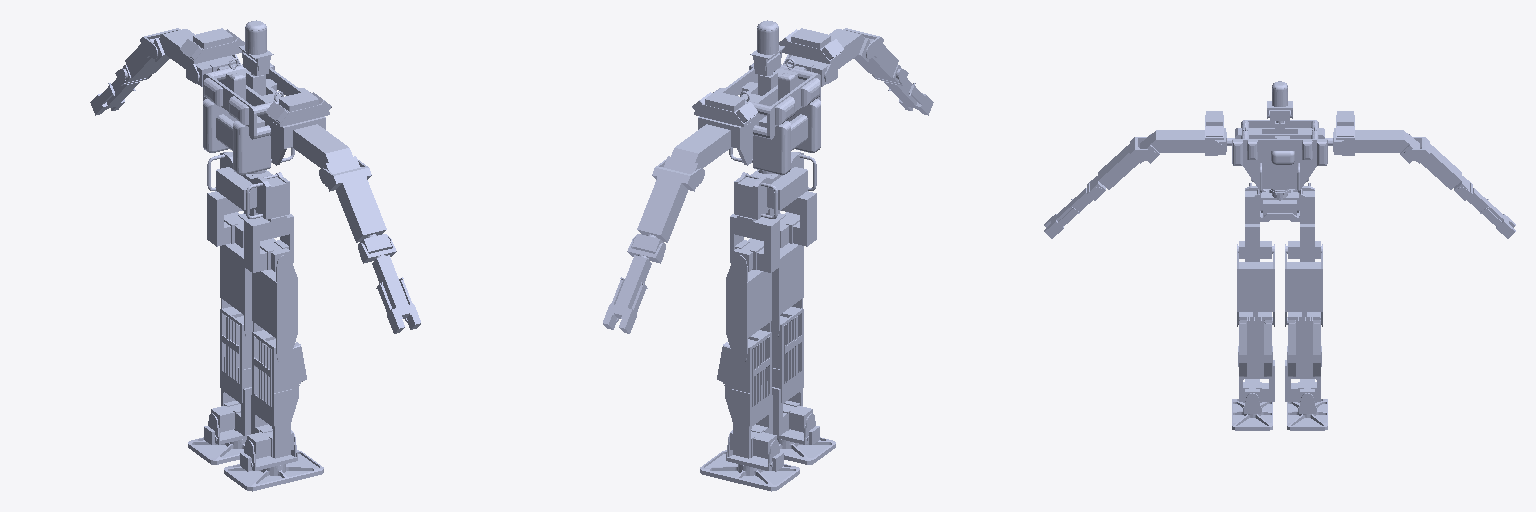
--- What the picture shows (computed from the rendered views, not written in the file) ---
Views: 3 orthographic renders of the robot side by side, from view 1: azimuth 30°, elevation 25°; view 2: azimuth 150°, elevation 25°; view 3: azimuth 270°, elevation 25°.
Robot: thormang_biped — 36 links, 35 joints (31 revolute, 4 prismatic); root link Pelvis; default pose: every joint at zero.
Links seen in each view (by area): view 1: Torso, R_Shin, R_Thigh, L_Shin, Pelvis, R_Foot, R_Forearm, R_ShoulderRoll, L_Thigh, R_Brachium, R_HipYaw, L_ShoulderRoll (+9 smaller); view 2: Torso, L_Shin, L_Thigh, R_Shin, Pelvis, L_Foot, L_Forearm, L_ShoulderRoll, R_Thigh, L_Brachium, L_HipYaw, R_ShoulderRoll (+9 smaller); view 3: Torso, L_Shin, R_Shin, L_Thigh, R_Thigh, Pelvis, L_Brachium, R_Brachium, L_Foot, R_Foot, L_Forearm, R_Forearm (+5 smaller).
Boxes of the visible links, <box> form: Torso: <box>203,58,310,174</box>; R_Shin: <box>251,330,306,458</box>; R_Thigh: <box>252,255,297,362</box>; L_Shin: <box>220,307,251,435</box>; Pelvis: <box>207,152,289,219</box>; R_Foot: <box>224,430,323,491</box>; R_Forearm: <box>319,160,386,242</box>; R_ShoulderRoll: <box>266,91,331,148</box>; L_Thigh: <box>220,243,252,339</box>; R_Brachium: <box>293,124,360,186</box>; R_HipYaw: <box>244,214,293,272</box>; L_ShoulderRoll: <box>180,28,244,83</box>; Torso: <box>713,58,820,174</box>; L_Shin: <box>717,330,772,458</box>; L_Thigh: <box>726,255,771,362</box>; R_Shin: <box>772,307,803,435</box>; Pelvis: <box>734,152,816,219</box>; L_Foot: <box>700,430,799,491</box>; L_Forearm: <box>637,160,704,242</box>; L_ShoulderRoll: <box>692,91,757,148</box>; R_Thigh: <box>771,243,803,339</box>; L_Brachium: <box>663,124,730,186</box>; L_HipYaw: <box>730,214,779,272</box>; R_ShoulderRoll: <box>779,28,843,83</box>; Torso: <box>1232,120,1327,197</box>; L_Shin: <box>1285,312,1321,401</box>; R_Shin: <box>1238,312,1274,401</box>; L_Thigh: <box>1285,244,1322,326</box>; R_Thigh: <box>1237,244,1274,326</box>; Pelvis: <box>1245,183,1314,221</box>; L_Brachium: <box>1355,130,1419,163</box>; R_Brachium: <box>1140,130,1204,163</box>; L_Foot: <box>1287,393,1327,430</box>; R_Foot: <box>1232,393,1272,430</box>; L_Forearm: <box>1403,137,1461,189</box>; R_Forearm: <box>1098,137,1156,189</box>.
Size in the robot's own frame: 0.26 by 1.8 by 1.4 metres.
36 mesh visuals loaded from 36 distinct referenced files (36 binary STL).

The robot description file, URDF, robot "thormang_biped":
<robot
  name="thormang_biped">
  <link
    name="Pelvis">
    <inertial>
      <origin
        xyz="-0.0207455406635074 6.47853827404495E-05 0.00380982131902759"
        rpy="0 0 0" />
      <mass
        value="2.19306457334278" />
      <inertia
        ixx="0.0153339760496231"
        ixy="2.94749587502496E-06"
        ixz="-0.000209196844286706"
        iyy="0.00398144349279579"
        iyz="-5.41293804035755E-07"
        izz="0.0162134477869545" />
    </inertial>
    <visual>
      <origin
        xyz="0 0 0"
        rpy="0 0 0" />
      <geometry>
        <mesh
          filename="package://thormang_biped/meshes/Pelvis.STL" />
      </geometry>
      <material
        name="">
        <color
          rgba="0.792156862745098 0.819607843137255 0.933333333333333 1" />
      </material>
    </visual>
    <collision>
      <origin
        xyz="0 0 0"
        rpy="0 0 0" />
      <geometry>
        <mesh
          filename="package://thormang_biped/meshes/Pelvis.STL" />
      </geometry>
    </collision>
  </link>
  <link
    name="Waist">
    <inertial>
      <origin
        xyz="3.46944695195361E-18 2.37301874171323E-17 0.0382726623568151"
        rpy="0 0 0" />
      <mass
        value="0.105008981553768" />
      <inertia
        ixx="0.00028923325259777"
        ixy="-8.85936872449097E-21"
        ixz="1.70143032864586E-20"
        iyy="5.76459310010768E-05"
        iyz="5.42136269993996E-20"
        izz="0.000281002197190509" />
    </inertial>
    <visual>
      <origin
        xyz="0 0 0"
        rpy="0 0 0" />
      <geometry>
        <mesh
          filename="package://thormang_biped/meshes/Waist.STL" />
      </geometry>
      <material
        name="">
        <color
          rgba="0.792156862745098 0.819607843137255 0.933333333333333 1" />
      </material>
    </visual>
    <collision>
      <origin
        xyz="0 0 0"
        rpy="0 0 0" />
      <geometry>
        <mesh
          filename="package://thormang_biped/meshes/Waist.STL" />
      </geometry>
    </collision>
  </link>
  <joint
    name="WaistPitch"
    type="revolute">
    <origin
      xyz="0 0 0"
      rpy="0 0 0" />
    <parent
      link="Pelvis" />
    <child
      link="Waist" />
    <axis
      xyz="0 1 0" />
    <limit
      lower="-3.14159"
      upper="3.14159"
      effort="0"
      velocity="0" />
  </joint>
  <link
    name="Torso">
    <inertial>
      <origin
        xyz="-0.0168979700897844 0.000140576613513264 0.22966016396624"
        rpy="0 0 0" />
      <mass
        value="5.57174840569226" />
      <inertia
        ixx="0.0769002816264981"
        ixy="5.26727349633804E-05"
        ixz="0.00517017691313698"
        iyy="0.0480759423374482"
        iyz="5.27826324523314E-05"
        izz="0.0687309509996623" />
    </inertial>
    <visual>
      <origin
        xyz="0 0 0"
        rpy="0 0 0" />
      <geometry>
        <mesh
          filename="package://thormang_biped/meshes/Torso.STL" />
      </geometry>
      <material
        name="">
        <color
          rgba="0.792156862745098 0.819607843137255 0.933333333333333 1" />
      </material>
    </visual>
    <collision>
      <origin
        xyz="0 0 0"
        rpy="0 0 0" />
      <geometry>
        <mesh
          filename="package://thormang_biped/meshes/Torso.STL" />
      </geometry>
    </collision>
  </link>
  <joint
    name="WaistYaw"
    type="revolute">
    <origin
      xyz="0 0 0"
      rpy="0 0 0" />
    <parent
      link="Waist" />
    <child
      link="Torso" />
    <axis
      xyz="0 0 1" />
    <limit
      lower="-3.14159"
      upper="3.14159"
      effort="0"
      velocity="0" />
  </joint>
  <link
    name="L_ShoulderPitch">
    <inertial>
      <origin
        xyz="3.46944695195361E-18 -0.00342712853152077 5.55111512312578E-17"
        rpy="0 0 0" />
      <mass
        value="0.416028900494078" />
      <inertia
        ixx="0.000238893106729317"
        ixy="1.85898592168744E-18"
        ixz="1.53965504651903E-19"
        iyy="0.000629224025339215"
        iyz="1.24549355981854E-19"
        izz="0.000668967703762948" />
    </inertial>
    <visual>
      <origin
        xyz="0 0 0"
        rpy="0 0 0" />
      <geometry>
        <mesh
          filename="package://thormang_biped/meshes/L_ShoulderPitch.STL" />
      </geometry>
      <material
        name="">
        <color
          rgba="0.792156862745098 0.819607843137255 0.933333333333333 1" />
      </material>
    </visual>
    <collision>
      <origin
        xyz="0 0 0"
        rpy="0 0 0" />
      <geometry>
        <mesh
          filename="package://thormang_biped/meshes/L_ShoulderPitch.STL" />
      </geometry>
    </collision>
  </link>
  <joint
    name="L_ShoulderPitch"
    type="revolute">
    <origin
      xyz="0 0.234 0.276"
      rpy="0 0 0" />
    <parent
      link="Torso" />
    <child
      link="L_ShoulderPitch" />
    <axis
      xyz="0 1 0" />
 <limit
      lower="-3.14159"
      upper="3.14159"
      effort="0"
      velocity="0" />
  </joint>
  <link
    name="L_ShoulderRoll">
    <inertial>
      <origin
        xyz="1.43982048506075E-15 0.0632257039890232 -0.019398477881721"
        rpy="0 0 0" />
      <mass
        value="0.74323252855722" />
      <inertia
        ixx="0.000871617137653335"
        ixy="1.42765372431216E-19"
        ixz="-1.05384119479055E-18"
        iyy="0.00197133227800301"
        iyz="0.000122042446311375"
        izz="0.00222116483779518" />
    </inertial>
    <visual>
      <origin
        xyz="0 0 0"
        rpy="0 0 0" />
      <geometry>
        <mesh
          filename="package://thormang_biped/meshes/L_ShoulderRoll.STL" />
      </geometry>
      <material
        name="">
        <color
          rgba="0.792156862745098 0.819607843137255 0.933333333333333 1" />
      </material>
    </visual>
    <collision>
      <origin
        xyz="0 0 0"
        rpy="0 0 0" />
      <geometry>
        <mesh
          filename="package://thormang_biped/meshes/L_ShoulderRoll.STL" />
      </geometry>
    </collision>
  </link>
  <joint
    name="L_ShoulderRoll"
    type="revolute">
    <origin
      xyz="0 0 0"
      rpy="1.57 0 0" />
    <parent
      link="L_ShoulderPitch" />
    <child
      link="L_ShoulderRoll" />
    <axis
      xyz="1 0 0" />
 <limit
      lower="-3.14159"
      upper="3.14159"
      effort="0"
      velocity="0" />
  </joint>
  <link
    name="L_Brachium">
    <inertial>
      <origin
        xyz="1.09287578986539E-15 -0.00707253917999612 -0.177442810656575"
        rpy="0 0 0" />
      <mass
        value="1.22027557987287" />
      <inertia
        ixx="0.00632162045138092"
        ixy="2.30341245066915E-18"
        ixz="3.49898774029815E-18"
        iyy="0.0065801910115911"
        iyz="0.000731955168547619"
        izz="0.00132711461746966" />
    </inertial>
    <visual>
      <origin
        xyz="0 0 0"
        rpy="0 0 0" />
      <geometry>
        <mesh
          filename="package://thormang_biped/meshes/L_Brachium.STL" />
      </geometry>
      <material
        name="">
        <color
          rgba="0.792156862745098 0.819607843137255 0.933333333333333 1" />
      </material>
    </visual>
    <collision>
      <origin
        xyz="0 0 0"
        rpy="0 0 0" />
      <geometry>
        <mesh
          filename="package://thormang_biped/meshes/L_Brachium.STL" />
      </geometry>
    </collision>
  </link>
  <joint
    name="L_ShoulderYaw"
    type="revolute">
    <origin
      xyz="0 0 0"
      rpy="0 0 0" />
    <parent
      link="L_ShoulderRoll" />
    <child
      link="L_Brachium" />
    <axis
      xyz="0 0 -1" />
 <limit
      lower="-3.14159"
      upper="3.14159"
      effort="0"
      velocity="0" />
  </joint>
  <link
    name="L_Forearm">
    <inertial>
      <origin
        xyz="6.66133814775094E-16 0.0301802557882228 -0.125371968681661"
        rpy="0 0 0" />
      <mass
        value="0.894740704969577" />
      <inertia
        ixx="0.00316761849786979"
        ixy="8.99015611908446E-18"
        ixz="-4.28374668871665E-17"
        iyy="0.00351862682136402"
        iyz="4.38013509654595E-06"
        izz="0.000878865795651263" />
    </inertial>
    <visual>
      <origin
        xyz="0 0 0"
        rpy="0 0 0" />
      <geometry>
        <mesh
          filename="package://thormang_biped/meshes/L_Forearm.STL" />
      </geometry>
      <material
        name="">
        <color
          rgba="0.792156862745098 0.819607843137255 0.933333333333333 1" />
      </material>
    </visual>
    <collision>
      <origin
        xyz="0 0 0"
        rpy="0 0 0" />
      <geometry>
        <mesh
          filename="package://thormang_biped/meshes/L_Forearm.STL" />
      </geometry>
    </collision>
  </link>
  <joint
    name="L_ElbowRoll"
    type="revolute">
    <origin
      xyz="0 -0.03 -0.261"
      rpy="-0.785 0 0" />
    <parent
      link="L_Brachium" />
    <child
      link="L_Forearm" />
    <axis
      xyz="1 0 0" />
 <limit
      lower="-3.14159"
      upper="3.14159"
      effort="0"
      velocity="0" />
  </joint>
  <link
    name="L_WristRoll">
    <inertial>
      <origin
        xyz="1.1518563880486E-15 -1.11022302462516E-16 0.00067715994469672"
        rpy="0 0 0" />
      <mass
        value="0.150315450247039" />
      <inertia
        ixx="4.40315708714133E-05"
        ixy="-6.01255559899408E-21"
        ixz="5.93966197532904E-21"
        iyy="0.000108075785878161"
        iyz="-4.6910701991474E-22"
        izz="0.000105927651159539" />
    </inertial>
    <visual>
      <origin
        xyz="0 0 0"
        rpy="0 0 0" />
      <geometry>
        <mesh
          filename="package://thormang_biped/meshes/L_WristRoll.STL" />
      </geometry>
      <material
        name="">
        <color
          rgba="0.792156862745098 0.819607843137255 0.933333333333333 1" />
      </material>
    </visual>
    <collision>
      <origin
        xyz="0 0 0"
        rpy="0 0 0" />
      <geometry>
        <mesh
          filename="package://thormang_biped/meshes/L_WristRoll.STL" />
      </geometry>
    </collision>
  </link>
  <joint
    name="L_WristYaw"
    type="revolute">
    <origin
      xyz="0 0.03 -0.252"
      rpy="0 0 0" />
    <parent
      link="L_Forearm" />
    <child
      link="L_WristRoll" />
    <axis
      xyz="0 0 -1" />
 <limit
      lower="-3.14159"
      upper="3.14159"
      effort="0"
      velocity="0" />
  </joint>
  <link
    name="L_WristPitch">
    <inertial>
      <origin
        xyz="5.48172618408671E-16 4.9960036108132E-16 -0.0279403454542276"
        rpy="0 0 0" />
      <mass
        value="0.0596026537824495" />
      <inertia
        ixx="1.59829512203542E-05"
        ixy="-1.31008815943191E-19"
        ixz="-7.63295657012053E-19"
        iyy="7.19116624785128E-05"
        iyz="4.27671696206679E-19"
        izz="7.33052713556691E-05" />
    </inertial>
    <visual>
      <origin
        xyz="0 0 0"
        rpy="0 0 0" />
      <geometry>
        <mesh
          filename="package://thormang_biped/meshes/L_WristPitch.STL" />
      </geometry>
      <material
        name="">
        <color
          rgba="0.792156862745098 0.819607843137255 0.933333333333333 1" />
      </material>
    </visual>
    <collision>
      <origin
        xyz="0 0 0"
        rpy="0 0 0" />
      <geometry>
        <mesh
          filename="package://thormang_biped/meshes/L_WristPitch.STL" />
      </geometry>
    </collision>
  </link>
  <joint
    name="L_WristRoll"
    type="revolute">
    <origin
      xyz="0 0 0"
      rpy="0 0 0" />
    <parent
      link="L_WristRoll" />
    <child
      link="L_WristPitch" />
    <axis
      xyz="1 0 0" />
 <limit
      lower="-3.14159"
      upper="3.14159"
      effort="0"
      velocity="0" />
  </joint>
  <link
    name="L_WristYaw">
    <inertial>
      <origin
        xyz="1.12410081243297E-15 -2.4980018054066E-16 -0.136382080206716"
        rpy="0 0 0" />
      <mass
        value="0.339829436067223" />
      <inertia
        ixx="0.00110530407214956"
        ixy="4.0800302623266E-21"
        ixz="2.20286100939062E-21"
        iyy="0.00110530686188384"
        iyz="1.00750091961227E-19"
        izz="9.91805437826409E-05" />
    </inertial>
    <visual>
      <origin
        xyz="0 0 0"
        rpy="0 0 0" />
      <geometry>
        <mesh
          filename="package://thormang_biped/meshes/L_WristYaw.STL" />
      </geometry>
      <material
        name="">
        <color
          rgba="0.792156862745098 0.819607843137255 0.933333333333333 1" />
      </material>
    </visual>
    <collision>
      <origin
        xyz="0 0 0"
        rpy="0 0 0" />
      <geometry>
        <mesh
          filename="package://thormang_biped/meshes/L_WristYaw.STL" />
      </geometry>
    </collision>
  </link>
  <joint
    name="L_HandYaw"
    type="revolute">
    <origin
      xyz="0 0 0"
      rpy="0 0 0" />
    <parent
      link="L_WristPitch" />
    <child
      link="L_WristYaw" />
    <axis
      xyz="0 0 1" />
 <limit
      lower="-3.14159"
      upper="3.14159"
      effort="0"
      velocity="0" />
  </joint>
  <link
    name="L_Gripper_1">
    <inertial>
      <origin
        xyz="0.0121411900875521 -2.77555756156289E-17 0.0193142445729918"
        rpy="0 0 0" />
      <mass
        value="0.0743348693421169" />
      <inertia
        ixx="0.000122351896140951"
        ixy="-6.41368630681924E-22"
        ixz="6.97589954062859E-06"
        iyy="0.000115752232168573"
        iyz="-1.08143688961258E-20"
        izz="1.20667033003481E-05" />
    </inertial>
    <visual>
      <origin
        xyz="0 0 0"
        rpy="0 0 0" />
      <geometry>
        <mesh
          filename="package://thormang_biped/meshes/L_Gripper_1.STL" />
      </geometry>
      <material
        name="">
        <color
          rgba="0.792156862745098 0.819607843137255 0.933333333333333 1" />
      </material>
    </visual>
    <collision>
      <origin
        xyz="0 0 0"
        rpy="0 0 0" />
      <geometry>
        <mesh
          filename="package://thormang_biped/meshes/L_Gripper_1.STL" />
      </geometry>
    </collision>
  </link>
  <joint
    name="L_Gripper_1"
    type="prismatic">
    <origin
      xyz="0.017 0 -0.2378"
      rpy="-5.55111512312578E-16 0 0" />
    <parent
      link="L_WristYaw" />
    <child
      link="L_Gripper_1" />
    <axis
      xyz="1 0 1" />
 <limit
      lower="-0.04"
      upper="0"
      effort="0"
      velocity="0" />
  </joint>
  <link
    name="L_Gripper_2">
    <inertial>
      <origin
        xyz="-0.012141190087552 -5.55111512312578E-17 0.0193142445729917"
        rpy="0 0 0" />
      <mass
        value="0.0743348693421169" />
      <inertia
        ixx="0.000122351896140951"
        ixy="-1.63687340802703E-21"
        ixz="-6.97589954062858E-06"
        iyy="0.000115752232168573"
        iyz="1.18536861579849E-20"
        izz="1.20667033003481E-05" />
    </inertial>
    <visual>
      <origin
        xyz="0 0 0"
        rpy="0 0 0" />
      <geometry>
        <mesh
          filename="package://thormang_biped/meshes/L_Gripper_2.STL" />
      </geometry>
      <material
        name="">
        <color
          rgba="0.792156862745098 0.819607843137255 0.933333333333333 1" />
      </material>
    </visual>
    <collision>
      <origin
        xyz="0 0 0"
        rpy="0 0 0" />
      <geometry>
        <mesh
          filename="package://thormang_biped/meshes/L_Gripper_2.STL" />
      </geometry>
    </collision>
  </link>
  <joint
    name="L_Gripper_2"
    type="prismatic">
    <origin
      xyz="-0.017 0 -0.2378"
      rpy="0 0 0" />
    <parent
      link="L_WristYaw" />
    <child
      link="L_Gripper_2" />
    <axis
      xyz="-1 0 1" />
 <limit
      lower="-0.04"
      upper="0"
      effort="0"
      velocity="0" />
  <mimic joint="L_Gripper_1" multiplier="1" offset="0"/>
  </joint>
  <link
    name="R_ShoulderPitch">
    <inertial>
      <origin
        xyz="-1.66533453693773E-16 0.00342712853152929 1.77635683940025E-15"
        rpy="0 0 0" />
      <mass
        value="0.416028900494078" />
      <inertia
        ixx="0.000238893106729317"
        ixy="-1.70627694277485E-18"
        ixz="1.72789151585829E-19"
        iyy="0.000629224025339215"
        iyz="-2.51190062196878E-19"
        izz="0.000668967703762948" />
    </inertial>
    <visual>
      <origin
        xyz="0 0 0"
        rpy="0 0 0" />
      <geometry>
        <mesh
          filename="package://thormang_biped/meshes/R_ShoulderPitch.STL" />
      </geometry>
      <material
        name="">
        <color
          rgba="0.792156862745098 0.819607843137255 0.933333333333333 1" />
      </material>
    </visual>
    <collision>
      <origin
        xyz="0 0 0"
        rpy="0 0 0" />
      <geometry>
        <mesh
          filename="package://thormang_biped/meshes/R_ShoulderPitch.STL" />
      </geometry>
    </collision>
  </link>
  <joint
    name="R_ShoulderPitch"
    type="revolute">
    <origin
      xyz="0 -0.234 0.276"
      rpy="0 0 0" />
    <parent
      link="Torso" />
    <child
      link="R_ShoulderPitch" />
    <axis
      xyz="0 -1 0" />
 <limit
      lower="-3.14159"
      upper="3.14159"
      effort="0"
      velocity="0" />
  </joint>
  <link
    name="R_ShoulderRoll">
    <inertial>
      <origin
        xyz="-1.73472347597681E-16 -0.0632257039890194 -0.0193984778817191"
        rpy="0 0 0" />
      <mass
        value="0.74323252855722" />
      <inertia
        ixx="0.000871617137653335"
        ixy="-4.29995576373334E-18"
        ixz="-1.39091718422936E-18"
        iyy="0.00197133227800301"
        iyz="-0.000122042446311376"
        izz="0.00222116483779518" />
    </inertial>
    <visual>
      <origin
        xyz="0 0 0"
        rpy="0 0 0" />
      <geometry>
        <mesh
          filename="package://thormang_biped/meshes/R_ShoulderRoll.STL" />
      </geometry>
      <material
        name="">
        <color
          rgba="0.792156862745098 0.819607843137255 0.933333333333333 1" />
      </material>
    </visual>
    <collision>
      <origin
        xyz="0 0 0"
        rpy="0 0 0" />
      <geometry>
        <mesh
          filename="package://thormang_biped/meshes/R_ShoulderRoll.STL" />
      </geometry>
    </collision>
  </link>
  <joint
    name="R_ShoulderRoll"
    type="revolute">
    <origin
      xyz="0 0 0"
      rpy="-1.57 0 0" />
    <parent
      link="R_ShoulderPitch" />
    <child
      link="R_ShoulderRoll" />
    <axis
      xyz="1 0 0" />
 <limit
      lower="-3.14159"
      upper="3.14159"
      effort="0"
      velocity="0" />
  </joint>
  <link
    name="R_Brachium">
    <inertial>
      <origin
        xyz="-2.56739074444567E-16 0.00707253917999937 -0.177442810656573"
        rpy="0 0 0" />
      <mass
        value="1.22027557987287" />
      <inertia
        ixx="0.00632162045138092"
        ixy="-3.08753877840026E-18"
        ixz="5.42576799484679E-19"
        iyy="0.0065801910115911"
        iyz="-0.0007319551685476"
        izz="0.00132711461746966" />
    </inertial>
    <visual>
      <origin
        xyz="0 0 0"
        rpy="0 0 0" />
      <geometry>
        <mesh
          filename="package://thormang_biped/meshes/R_Brachium.STL" />
      </geometry>
      <material
        name="">
        <color
          rgba="0.792156862745098 0.819607843137255 0.933333333333333 1" />
      </material>
    </visual>
    <collision>
      <origin
        xyz="0 0 0"
        rpy="0 0 0" />
      <geometry>
        <mesh
          filename="package://thormang_biped/meshes/R_Brachium.STL" />
      </geometry>
    </collision>
  </link>
  <joint
    name="R_ShoulderYaw"
    type="revolute">
    <origin
      xyz="0 0 0"
      rpy="0 0 0" />
    <parent
      link="R_ShoulderRoll" />
    <child
      link="R_Brachium" />
    <axis
      xyz="0 0 -1" />
 <limit
      lower="-3.14159"
      upper="3.14159"
      effort="0"
      velocity="0" />
  </joint>
  <link
    name="R_Forearm">
    <inertial>
      <origin
        xyz="-6.90419943438769E-16 -0.0301802557882202 -0.125371968681659"
        rpy="0 0 0" />
      <mass
        value="0.894740704969576" />
      <inertia
        ixx="0.00316761849786979"
        ixy="-1.01729322997928E-17"
        ixz="-4.3166385399175E-17"
        iyy="0.00351862682136402"
        iyz="-4.38013509653758E-06"
        izz="0.000878865795651262" />
    </inertial>
    <visual>
      <origin
        xyz="0 0 0"
        rpy="0 0 0" />
      <geometry>
        <mesh
          filename="package://thormang_biped/meshes/R_Forearm.STL" />
      </geometry>
      <material
        name="">
        <color
          rgba="0.792156862745098 0.819607843137255 0.933333333333333 1" />
      </material>
    </visual>
    <collision>
      <origin
        xyz="0 0 0"
        rpy="0 0 0" />
      <geometry>
        <mesh
          filename="package://thormang_biped/meshes/R_Forearm.STL" />
      </geometry>
    </collision>
  </link>
  <joint
    name="R_ElbowRoll"
    type="revolute">
    <origin
      xyz="0 0.03 -0.261"
      rpy="0.785 0 0" />
    <parent
      link="R_Brachium" />
    <child
      link="R_Forearm" />
    <axis
      xyz="1 0 0" />
 <limit
      lower="-3.14159"
      upper="3.14159"
      effort="0"
      velocity="0" />
  </joint>
  <link
    name="R_WristRoll">
    <inertial>
      <origin
        xyz="-2.08166817117217E-16 2.38697950294409E-15 0.000677159944698441"
        rpy="0 0 0" />
      <mass
        value="0.150315450247039" />
      <inertia
        ixx="4.40315708714133E-05"
        ixy="-2.25602046964142E-19"
        ixz="6.15069358178715E-21"
        iyy="0.000108075785878161"
        iyz="6.00519892877253E-21"
        izz="0.000105927651159539" />
    </inertial>
    <visual>
      <origin
        xyz="0 0 0"
        rpy="0 0 0" />
      <geometry>
        <mesh
          filename="package://thormang_biped/meshes/R_WristRoll.STL" />
      </geometry>
      <material
        name="">
        <color
          rgba="0.792156862745098 0.819607843137255 0.933333333333333 1" />
      </material>
    </visual>
    <collision>
      <origin
        xyz="0 0 0"
        rpy="0 0 0" />
      <geometry>
        <mesh
          filename="package://thormang_biped/meshes/R_WristRoll.STL" />
      </geometry>
    </collision>
  </link>
  <joint
    name="R_WristYaw"
    type="revolute">
    <origin
      xyz="0 -0.03 -0.252"
      rpy="0 0 0" />
    <parent
      link="R_Forearm" />
    <child
      link="R_WristRoll" />
    <axis
      xyz="0 0 -1" />
 <limit
      lower="-3.14159"
      upper="3.14159"
      effort="0"
      velocity="0" />
  </joint>
  <link
    name="R_WristPirch">
    <inertial>
      <origin
        xyz="-7.63278329429795E-16 1.69309011255336E-15 -0.0279403454542258"
        rpy="0 0 0" />
      <mass
        value="0.0596026537824494" />
      <inertia
        ixx="1.59829512203542E-05"
        ixy="-6.41322851625969E-20"
        ixz="-7.70255192278706E-19"
        iyy="7.19116624785125E-05"
        iyz="-4.30201523947514E-19"
        izz="7.33052713556688E-05" />
    </inertial>
    <visual>
      <origin
        xyz="0 0 0"
        rpy="0 0 0" />
      <geometry>
        <mesh
          filename="package://thormang_biped/meshes/R_WristPirch.STL" />
      </geometry>
      <material
        name="">
        <color
          rgba="0.792156862745098 0.819607843137255 0.933333333333333 1" />
      </material>
    </visual>
    <collision>
      <origin
        xyz="0 0 0"
        rpy="0 0 0" />
      <geometry>
        <mesh
          filename="package://thormang_biped/meshes/R_WristPirch.STL" />
      </geometry>
    </collision>
  </link>
  <joint
    name="R_WristRoll"
    type="revolute">
    <origin
      xyz="0 0 0"
      rpy="0 0 0" />
    <parent
      link="R_WristRoll" />
    <child
      link="R_WristPirch" />
    <axis
      xyz="1 0 0" />
 <limit
      lower="-3.14159"
      upper="3.14159"
      effort="0"
      velocity="0" />
  </joint>
  <link
    name="R_WristYaw">
    <inertial>
      <origin
        xyz="-1.2490009027033E-16 1.97064586870965E-15 -0.136382080206715"
        rpy="0 0 0" />
      <mass
        value="0.339829436067223" />
      <inertia
        ixx="0.00110530407214957"
        ixy="-2.41405675922207E-21"
        ixz="-7.47564644287288E-19"
        iyy="0.00110530686188384"
        iyz="3.17180054928491E-18"
        izz="9.91805437826409E-05" />
    </inertial>
    <visual>
      <origin
        xyz="0 0 0"
        rpy="0 0 0" />
      <geometry>
        <mesh
          filename="package://thormang_biped/meshes/R_WristYaw.STL" />
      </geometry>
      <material
        name="">
        <color
          rgba="0.792156862745098 0.819607843137255 0.933333333333333 1" />
      </material>
    </visual>
    <collision>
      <origin
        xyz="0 0 0"
        rpy="0 0 0" />
      <geometry>
        <mesh
          filename="package://thormang_biped/meshes/R_WristYaw.STL" />
      </geometry>
    </collision>
  </link>
  <joint
    name="R_HandYaw"
    type="revolute">
    <origin
      xyz="0 0 0"
      rpy="0 0 0" />
    <parent
      link="R_WristPirch" />
    <child
      link="R_WristYaw" />
    <axis
      xyz="0 0 1" />
 <limit
      lower="-3.14159"
      upper="3.14159"
      effort="0"
      velocity="0" />
  </joint>
  <link
    name="R_Gripper_1">
    <inertial>
      <origin
        xyz="0.0121411900875521 5.55111512312578E-17 0.0193142445729919"
        rpy="0 0 0" />
      <mass
        value="0.0743348693421169" />
      <inertia
        ixx="0.00012235189614095"
        ixy="1.05553360562055E-21"
        ixz="6.97589954062858E-06"
        iyy="0.000115752232168572"
        iyz="1.03150393781901E-21"
        izz="1.20667033003482E-05" />
    </inertial>
    <visual>
      <origin
        xyz="0 0 0"
        rpy="0 0 0" />
      <geometry>
        <mesh
          filename="package://thormang_biped/meshes/R_Gripper_1.STL" />
      </geometry>
      <material
        name="">
        <color
          rgba="0.792156862745098 0.819607843137255 0.933333333333333 1" />
      </material>
    </visual>
    <collision>
      <origin
        xyz="0 0 0"
        rpy="0 0 0" />
      <geometry>
        <mesh
          filename="package://thormang_biped/meshes/R_Gripper_1.STL" />
      </geometry>
    </collision>
  </link>
  <joint
    name="R_Gripper_1"
    type="prismatic">
    <origin
      xyz="0.017 0 -0.2378"
      rpy="0 0 0" />
    <parent
      link="R_WristYaw" />
    <child
      link="R_Gripper_1" />
    <axis
      xyz="1 0 1" />
 <limit
      lower="-0.04"
      upper="0"
      effort="0"
      velocity="0" />
  </joint>
  <link
    name="R_Gripper_2">
    <inertial>
      <origin
        xyz="-0.0121411900875521 1.11022302462516E-16 0.0193142445729919"
        rpy="0 0 0" />
      <mass
        value="0.0743348693421169" />
      <inertia
        ixx="0.000122351896140951"
        ixy="-9.08130289243433E-22"
        ixz="-6.97589954062859E-06"
        iyy="0.000115752232168573"
        iyz="-1.71657017293003E-20"
        izz="1.20667033003481E-05" />
    </inertial>
    <visual>
      <origin
        xyz="0 0 0"
        rpy="0 0 0" />
      <geometry>
        <mesh
          filename="package://thormang_biped/meshes/R_Gripper_2.STL" />
      </geometry>
      <material
        name="">
        <color
          rgba="0.792156862745098 0.819607843137255 0.933333333333333 1" />
      </material>
    </visual>
    <collision>
      <origin
        xyz="0 0 0"
        rpy="0 0 0" />
      <geometry>
        <mesh
          filename="package://thormang_biped/meshes/R_Gripper_2.STL" />
      </geometry>
    </collision>
  </link>
  <joint
    name="R_Gripper_2"
    type="prismatic">
    <origin
      xyz="-0.017 0 -0.2378"
      rpy="0 0 0" />
    <parent
      link="R_WristYaw" />
    <child
      link="R_Gripper_2" />
    <axis
      xyz="-1 0 1" />
  <limit
      lower="-3.14159"
      upper="3.14159"
      effort="0"
      velocity="0" />
  <mimic joint="R_Gripper_1" multiplier="1" offset="0"/>
  </joint>
  <link
    name="HeadYaw">
    <inertial>
      <origin
        xyz="-1.38777878078145E-17 -5.35104110956884E-16 -0.00067715994469647"
        rpy="0 0 0" />
      <mass
        value="0.150315450247039" />
      <inertia
        ixx="0.000108075785878161"
        ixy="-2.27307476693817E-20"
        ixz="2.46953871238486E-21"
        iyy="4.40315708714134E-05"
        iyz="5.39361979487452E-21"
        izz="0.00010592765115954" />
    </inertial>
    <visual>
      <origin
        xyz="0 0 0"
        rpy="0 0 0" />
      <geometry>
        <mesh
          filename="package://thormang_biped/meshes/HeadYaw.STL" />
      </geometry>
      <material
        name="">
        <color
          rgba="0.792156862745098 0.819607843137255 0.933333333333333 1" />
      </material>
    </visual>
    <collision>
      <origin
        xyz="0 0 0"
        rpy="0 0 0" />
      <geometry>
        <mesh
          filename="package://thormang_biped/meshes/HeadYaw.STL" />
      </geometry>
    </collision>
  </link>
  <joint
    name="HeadYaw"
    type="revolute">
    <origin
      xyz="0.00025 0 0.393"
      rpy="0 0 0" />
    <parent
      link="Torso" />
    <child
      link="HeadYaw" />
    <axis
      xyz="0 0 1" />
 <limit
      lower="-3.14159"
      upper="3.14159"
      effort="0"
      velocity="0" />
  </joint>
  <link
    name="HeadPitch">
    <inertial>
      <origin
        xyz="-1.52655665885959E-16 -3.85624632820465E-16 0.071641467671459"
        rpy="0 0 0" />
      <mass
        value="0.337544108804753" />
      <inertia
        ixx="0.000475512791439341"
        ixy="-1.20085338855777E-19"
        ixz="2.09834249485506E-18"
        iyy="0.000411590544181183"
        iyz="-2.19404182596517E-18"
        izz="0.000216341594056485" />
    </inertial>
    <visual>
      <origin
        xyz="0 0 0"
        rpy="0 0 0" />
      <geometry>
        <mesh
          filename="package://thormang_biped/meshes/HeadPitch.STL" />
      </geometry>
      <material
        name="">
        <color
          rgba="0.792156862745098 0.819607843137255 0.933333333333333 1" />
      </material>
    </visual>
    <collision>
      <origin
        xyz="0 0 0"
        rpy="0 0 0" />
      <geometry>
        <mesh
          filename="package://thormang_biped/meshes/HeadPitch.STL" />
      </geometry>
    </collision>
  </link>
  <joint
    name="HeadPitch"
    type="revolute">
    <origin
      xyz="0 0 0"
      rpy="0 0 0" />
    <parent
      link="HeadYaw" />
    <child
      link="HeadPitch" />
    <axis
      xyz="0 1 0" />
 <limit
      lower="-3.14159"
      upper="3.14159"
      effort="0"
      velocity="0" />
  </joint>
  <link
    name="ChestLidar">
    <inertial>
      <origin
        xyz="-1.38777878078145E-17 0.0116948039792169 1.47664693310734E-05"
        rpy="0 0 0" />
      <mass
        value="0.282959869119411" />
      <inertia
        ixx="0.000239924579150412"
        ixy="7.44861410120348E-21"
        ixz="1.17015423832789E-20"
        iyy="0.000149433938356934"
        iyz="-4.88646126541286E-08"
        izz="0.000230200431484816" />
    </inertial>
    <visual>
      <origin
        xyz="0 0 0"
        rpy="0 0 0" />
      <geometry>
        <mesh
          filename="package://thormang_biped/meshes/ChestLidar.STL" />
      </geometry>
      <material
        name="">
        <color
          rgba="0.792156862745098 0.819607843137255 0.933333333333333 1" />
      </material>
    </visual>
    <collision>
      <origin
        xyz="0 0 0"
        rpy="0 0 0" />
      <geometry>
        <mesh
          filename="package://thormang_biped/meshes/ChestLidar.STL" />
      </geometry>
    </collision>
  </link>
  <joint
    name="ChestLidar"
    type="revolute">
    <origin
      xyz="0.04975 0 0.23915"
      rpy="0 0 0" />
    <parent
      link="Torso" />
    <child
      link="ChestLidar" />
    <axis
      xyz="0 0 -1" />
 <limit
      lower="-3.14159"
      upper="3.14159"
      effort="0"
      velocity="0" />
  </joint>
  <link
    name="L_HipYaw">
    <inertial>
      <origin
        xyz="-0.0228902675343666 4.16333634234434E-17 0.065587302187414"
        rpy="0 0 0" />
      <mass
        value="0.72157709426411" />
      <inertia
        ixx="0.00167992979561845"
        ixy="-6.97560486576371E-19"
        ixz="0.000282432152427089"
        iyy="0.00298368009748716"
        iyz="-2.60113278275012E-19"
        izz="0.00166031884737342" />
    </inertial>
    <visual>
      <origin
        xyz="0 0 0"
        rpy="0 0 0" />
      <geometry>
        <mesh
          filename="package://thormang_biped/meshes/L_HipYaw.STL" />
      </geometry>
      <material
        name="">
        <color
          rgba="0.792156862745098 0.819607843137255 0.933333333333333 1" />
      </material>
    </visual>
    <collision>
      <origin
        xyz="0 0 0"
        rpy="0 0 0" />
      <geometry>
        <mesh
          filename="package://thormang_biped/meshes/L_HipYaw.STL" />
      </geometry>
    </collision>
  </link>
  <joint
    name="L_HipYaw"
    type="revolute">
    <origin
      xyz="0 0.105 -0.18"
      rpy="0 0 0" />
    <parent
      link="Pelvis" />
    <child
      link="L_HipYaw" />
    <axis
      xyz="0 0 -1" />
 <limit
      lower="-3.14159"
      upper="3.14159"
      effort="0"
      velocity="0" />
  </joint>
  <link
    name="L_HipRoll">
    <inertial>
      <origin
        xyz="1.49186218934005E-16 -0.0103148017844754 0"
        rpy="0 0 0" />
      <mass
        value="0.437311321751758" />
      <inertia
        ixx="0.00065956104526658"
        ixy="-1.16427869146066E-19"
        ixz="-1.20255085608181E-19"
        iyy="0.000259056705757512"
        iyz="1.38930726444506E-19"
        izz="0.000692208200527019" />
    </inertial>
    <visual>
      <origin
        xyz="0 0 0"
        rpy="0 0 0" />
      <geometry>
        <mesh
          filename="package://thormang_biped/meshes/L_HipRoll.STL" />
      </geometry>
      <material
        name="">
        <color
          rgba="0.792156862745098 0.819607843137255 0.933333333333333 1" />
      </material>
    </visual>
    <collision>
      <origin
        xyz="0 0 0"
        rpy="0 0 0" />
      <geometry>
        <mesh
          filename="package://thormang_biped/meshes/L_HipRoll.STL" />
      </geometry>
    </collision>
  </link>
  <joint
    name="L_HipRoll"
    type="revolute">
    <origin
      xyz="0 0 0"
      rpy="0 0 0" />
    <parent
      link="L_HipYaw" />
    <child
      link="L_HipRoll" />
    <axis
      xyz="1 0 0" />
 <limit
      lower="-3.14159"
      upper="3.14159"
      effort="0"
      velocity="0" />
  </joint>
  <link
    name="L_Thigh">
    <inertial>
      <origin
        xyz="0.0105118439759244 -0.012 -0.15"
        rpy="0 0 0" />
      <mass
        value="1.94959368227371" />
      <inertia
        ixx="0.0101895537834064"
        ixy="4.38786705235751E-19"
        ixz="-4.01268763067474E-18"
        iyy="0.00728041107930321"
        iyz="-1.00585162486448E-18"
        izz="0.00452526621081512" />
    </inertial>
    <visual>
      <origin
        xyz="0 0 0"
        rpy="0 0 0" />
      <geometry>
        <mesh
          filename="package://thormang_biped/meshes/L_Thigh.STL" />
      </geometry>
      <material
        name="">
        <color
          rgba="0.792156862745098 0.819607843137255 0.933333333333333 1" />
      </material>
    </visual>
    <collision>
      <origin
        xyz="0 0 0"
        rpy="0 0 0" />
      <geometry>
        <mesh
          filename="package://thormang_biped/meshes/L_Thigh.STL" />
      </geometry>
    </collision>
  </link>
  <joint
    name="L_HipPitch"
    type="revolute">
    <origin
      xyz="0 0 0"
      rpy="0 0 0" />
    <parent
      link="L_HipRoll" />
    <child
      link="L_Thigh" />
    <axis
      xyz="0 1 0" />
 <limit
      lower="-3.14159"
      upper="3.14159"
      effort="0"
      velocity="0" />
  </joint>
  <link
    name="L_Shin">
    <inertial>
      <origin
        xyz="0.00883415484125563 -0.0149274590341243 -0.120537445426911"
        rpy="0 0 0" />
      <mass
        value="2.6825235982642" />
      <inertia
        ixx="0.0259265488038337"
        ixy="6.97622449613815E-05"
        ixz="0.00103300020370769"
        iyy="0.0228497663941152"
        iyz="0.00115455762450985"
        izz="0.00636055026513296" />
    </inertial>
    <visual>
      <origin
        xyz="0 0 0"
        rpy="0 0 0" />
      <geometry>
        <mesh
          filename="package://thormang_biped/meshes/L_Shin.STL" />
      </geometry>
      <material
        name="">
        <color
          rgba="0.792156862745098 0.819607843137255 0.933333333333333 1" />
      </material>
    </visual>
    <collision>
      <origin
        xyz="0 0 0"
        rpy="0 0 0" />
      <geometry>
        <mesh
          filename="package://thormang_biped/meshes/L_Shin.STL" />
      </geometry>
    </collision>
  </link>
  <joint
    name="L_KneePitch"
    type="revolute">
    <origin
      xyz="0 0 -0.3"
      rpy="0 0 0" />
    <parent
      link="L_Thigh" />
    <child
      link="L_Shin" />
    <axis
      xyz="0 1 0" />
 <limit
      lower="-3.14159"
      upper="3.14159"
      effort="0"
      velocity="0" />
  </joint>
  <link
    name="L_AnkleRoll">
    <inertial>
      <origin
        xyz="-0.0103148017844745 4.85722573273506E-16 -4.44089209850063E-16"
        rpy="0 0 0" />
      <mass
        value="0.437311321751758" />
      <inertia
        ixx="0.000259056705757512"
        ixy="5.72280956461342E-21"
        ixz="3.65475772255778E-18"
        iyy="0.00065956104526658"
        iyz="-2.28785306866449E-20"
        izz="0.00069220820052702" />
    </inertial>
    <visual>
      <origin
        xyz="0 0 0"
        rpy="0 0 0" />
      <geometry>
        <mesh
          filename="package://thormang_biped/meshes/L_AnkleRoll.STL" />
      </geometry>
      <material
        name="">
        <color
          rgba="0.792156862745098 0.819607843137255 0.933333333333333 1" />
      </material>
    </visual>
    <collision>
      <origin
        xyz="0 0 0"
        rpy="0 0 0" />
      <geometry>
        <mesh
          filename="package://thormang_biped/meshes/L_AnkleRoll.STL" />
      </geometry>
    </collision>
  </link>
  <joint
    name="L_AnklePitch"
    type="revolute">
    <origin
      xyz="0 0 -0.3"
      rpy="0 0 0" />
    <parent
      link="L_Shin" />
    <child
      link="L_AnkleRoll" />
    <axis
      xyz="0 1 0" />
 <limit
      lower="-3.14159"
      upper="3.14159"
      effort="0"
      velocity="0" />
  </joint>
  <link
    name="L_Foot">
    <inertial>
      <origin
        xyz="-0.0061851838800501 5.2004747730372E-08 -0.0794940769535744"
        rpy="0 0 0" />
      <mass
        value="0.65915676187322" />
      <inertia
        ixx="0.00127562804191711"
        ixy="-6.05428625153341E-10"
        ixz="-0.000138880278119591"
        iyy="0.00310726088876845"
        iyz="1.82606232071821E-10"
        izz="0.00373686225576651" />
    </inertial>
    <visual>
      <origin
        xyz="0 0 0"
        rpy="0 0 0" />
      <geometry>
        <mesh
          filename="package://thormang_biped/meshes/L_Foot.STL" />
      </geometry>
      <material
        name="">
        <color
          rgba="0.792156862745098 0.819607843137255 0.933333333333333 1" />
      </material>
    </visual>
    <collision>
      <origin
        xyz="0 0 0"
        rpy="0 0 0" />
      <geometry>
        <mesh
          filename="package://thormang_biped/meshes/L_Foot.STL" />
      </geometry>
    </collision>
  </link>
  <joint
    name="L_AnkleRoll"
    type="revolute">
    <origin
      xyz="0 0 0"
      rpy="0 0 0" />
    <parent
      link="L_AnkleRoll" />
    <child
      link="L_Foot" />
    <axis
      xyz="1 0 0" />
 <limit
      lower="-3.14159"
      upper="3.14159"
      effort="0"
      velocity="0" />
  </joint>
  <link
    name="R_HipYaw">
    <inertial>
      <origin
        xyz="-0.0228902675343661 -2.77555756156289E-17 0.065587302187414"
        rpy="0 0 0" />
      <mass
        value="0.721577094264109" />
      <inertia
        ixx="0.00167992979561845"
        ixy="2.60946625942876E-19"
        ixz="0.000282432152427088"
        iyy="0.00298368009748715"
        iyz="2.2616458583073E-19"
        izz="0.00166031884737341" />
    </inertial>
    <visual>
      <origin
        xyz="0 0 0"
        rpy="0 0 0" />
      <geometry>
        <mesh
          filename="package://thormang_biped/meshes/R_HipYaw.STL" />
      </geometry>
      <material
        name="">
        <color
          rgba="0.792156862745098 0.819607843137255 0.933333333333333 1" />
      </material>
    </visual>
    <collision>
      <origin
        xyz="0 0 0"
        rpy="0 0 0" />
      <geometry>
        <mesh
          filename="package://thormang_biped/meshes/R_HipYaw.STL" />
      </geometry>
    </collision>
  </link>
  <joint
    name="R_HipYaw"
    type="revolute">
    <origin
      xyz="0 -0.105 -0.18"
      rpy="0 0 0" />
    <parent
      link="Pelvis" />
    <child
      link="R_HipYaw" />
    <axis
      xyz="0 0 -1" />
 <limit
      lower="-3.14159"
      upper="3.14159"
      effort="0"
      velocity="0" />
  </joint>
  <link
    name="R_HipRoll">
    <inertial>
      <origin
        xyz="1.70002900645727E-16 0.0103148017844754 5.55111512312578E-17"
        rpy="0 0 0" />
      <mass
        value="0.437311321751758" />
      <inertia
        ixx="0.00065956104526658"
        ixy="1.08472710698544E-19"
        ixz="-9.50826502122702E-20"
        iyy="0.000259056705757512"
        iyz="-1.51548489589848E-19"
        izz="0.00069220820052702" />
    </inertial>
    <visual>
      <origin
        xyz="0 0 0"
        rpy="0 0 0" />
      <geometry>
        <mesh
          filename="package://thormang_biped/meshes/R_HipRoll.STL" />
      </geometry>
      <material
        name="">
        <color
          rgba="0.792156862745098 0.819607843137255 0.933333333333333 1" />
      </material>
    </visual>
    <collision>
      <origin
        xyz="0 0 0"
        rpy="0 0 0" />
      <geometry>
        <mesh
          filename="package://thormang_biped/meshes/R_HipRoll.STL" />
      </geometry>
    </collision>
  </link>
  <joint
    name="R_HipRoll"
    type="revolute">
    <origin
      xyz="0 0 0"
      rpy="0 0 0" />
    <parent
      link="R_HipYaw" />
    <child
      link="R_HipRoll" />
    <axis
      xyz="1 0 0" />
 <limit
      lower="-3.14159"
      upper="3.14159"
      effort="0"
      velocity="0" />
  </joint>
  <link
    name="R_Thigh">
    <inertial>
      <origin
        xyz="0.0105118439759232 0.012 -0.15"
        rpy="0 0 0" />
      <mass
        value="1.94959368227371" />
      <inertia
        ixx="0.0101895537834064"
        ixy="3.42384353184078E-18"
        ixz="1.71133887550666E-17"
        iyy="0.00728041107930323"
        iyz="-1.05879118406788E-18"
        izz="0.00452526621081513" />
    </inertial>
    <visual>
      <origin
        xyz="0 0 0"
        rpy="0 0 0" />
      <geometry>
        <mesh
          filename="package://thormang_biped/meshes/R_Thigh.STL" />
      </geometry>
      <material
        name="">
        <color
          rgba="0.792156862745098 0.819607843137255 0.933333333333333 1" />
      </material>
    </visual>
    <collision>
      <origin
        xyz="0 0 0"
        rpy="0 0 0" />
      <geometry>
        <mesh
          filename="package://thormang_biped/meshes/R_Thigh.STL" />
      </geometry>
    </collision>
  </link>
  <joint
    name="R_HipPitch"
    type="revolute">
    <origin
      xyz="0 0 0"
      rpy="0 0 0" />
    <parent
      link="R_HipRoll" />
    <child
      link="R_Thigh" />
    <axis
      xyz="0 -1 0" />
 <limit
      lower="-3.14159"
      upper="3.14159"
      effort="0"
      velocity="0" />
  </joint>
  <link
    name="R_Shin">
    <inertial>
      <origin
        xyz="0.00890006797507049 0.0149266819138829 -0.12050212446888"
        rpy="0 0 0" />
      <mass
        value="2.67787367792702" />
      <inertia
        ixx="0.0259194029068191"
        ixy="-6.96831136603028E-05"
        ixz="0.00102940360022767"
        iyy="0.0228402528244798"
        iyz="-0.00115451522031508"
        izz="0.00634949217950655" />
    </inertial>
    <visual>
      <origin
        xyz="0 0 0"
        rpy="0 0 0" />
      <geometry>
        <mesh
          filename="package://thormang_biped/meshes/R_Shin.STL" />
      </geometry>
      <material
        name="">
        <color
          rgba="0.792156862745098 0.819607843137255 0.933333333333333 1" />
      </material>
    </visual>
    <collision>
      <origin
        xyz="0 0 0"
        rpy="0 0 0" />
      <geometry>
        <mesh
          filename="package://thormang_biped/meshes/R_Shin.STL" />
      </geometry>
    </collision>
  </link>
  <joint
    name="R_KneePitch"
    type="revolute">
    <origin
      xyz="0 0 -0.3"
      rpy="0 0 0" />
    <parent
      link="R_Thigh" />
    <child
      link="R_Shin" />
    <axis
      xyz="0 -1 0" />
 <limit
      lower="-3.14159"
      upper="3.14159"
      effort="0"
      velocity="0" />
  </joint>
  <link
    name="R_AnkleRoll">
    <inertial>
      <origin
        xyz="-0.0103148017844745 -5.55111512312578E-16 -5.55111512312578E-16"
        rpy="0 0 0" />
      <mass
        value="0.437311321751758" />
      <inertia
        ixx="0.000259056705757512"
        ixy="-5.14684701742323E-20"
        ixz="3.71738106477709E-18"
        iyy="0.000659561045266581"
        iyz="8.98861778656178E-20"
        izz="0.00069220820052702" />
    </inertial>
    <visual>
      <origin
        xyz="0 0 0"
        rpy="0 0 0" />
      <geometry>
        <mesh
          filename="package://thormang_biped/meshes/R_AnkleRoll.STL" />
      </geometry>
      <material
        name="">
        <color
          rgba="0.792156862745098 0.819607843137255 0.933333333333333 1" />
      </material>
    </visual>
    <collision>
      <origin
        xyz="0 0 0"
        rpy="0 0 0" />
      <geometry>
        <mesh
          filename="package://thormang_biped/meshes/R_AnkleRoll.STL" />
      </geometry>
    </collision>
  </link>
  <joint
    name="R_AnklePitch"
    type="revolute">
    <origin
      xyz="0 0 -0.3"
      rpy="0 0 0" />
    <parent
      link="R_Shin" />
    <child
      link="R_AnkleRoll" />
    <axis
      xyz="0 -1 0" />
 <limit
      lower="-3.14159"
      upper="3.14159"
      effort="0"
      velocity="0" />
  </joint>
  <link
    name="R_Foot">
    <inertial>
      <origin
        xyz="-0.00618518691126019 -5.20047584023908E-08 -0.0794940776763972"
        rpy="0 0 0" />
      <mass
        value="0.659156664663425" />
      <inertia
        ixx="0.00127562802362637"
        ixy="-1.79010201154943E-09"
        ixz="-0.000138880273318211"
        iyy="0.00310726072748259"
        iyz="-1.82606258681801E-10"
        izz="0.00373686209935571" />
    </inertial>
    <visual>
      <origin
        xyz="0 0 0"
        rpy="0 0 0" />
      <geometry>
        <mesh
          filename="package://thormang_biped/meshes/R_Foot.STL" />
      </geometry>
      <material
        name="">
        <color
          rgba="0.792156862745098 0.819607843137255 0.933333333333333 1" />
      </material>
    </visual>
    <collision>
      <origin
        xyz="0 0 0"
        rpy="0 0 0" />
      <geometry>
        <mesh
          filename="package://thormang_biped/meshes/R_Foot.STL" />
      </geometry>
    </collision>
  </link>
  <joint
    name="R_AnkleRoll"
    type="revolute">
    <origin
      xyz="0 0 0"
      rpy="0 0 0" />
    <parent
      link="R_AnkleRoll" />
    <child
      link="R_Foot" />
    <axis
      xyz="1 0 0" />
  <limit
      lower="-3.14159"
      upper="3.14159"
      effort="0"
      velocity="0" />
  </joint>
</robot>
